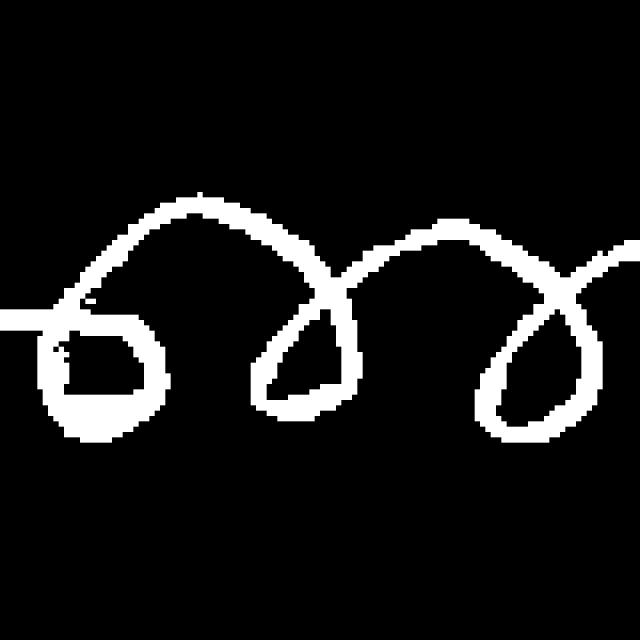inductor: (22, 178, 637, 466)
